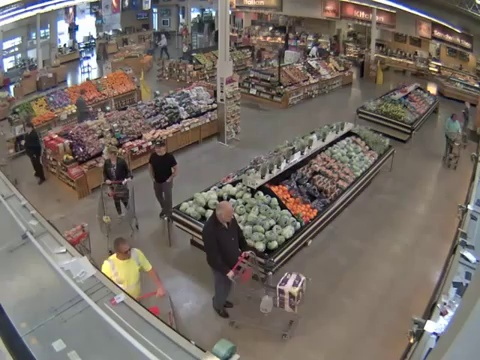face: (117, 243, 133, 260), (221, 208, 235, 224), (108, 149, 116, 161), (156, 145, 164, 155), (25, 124, 31, 134)
